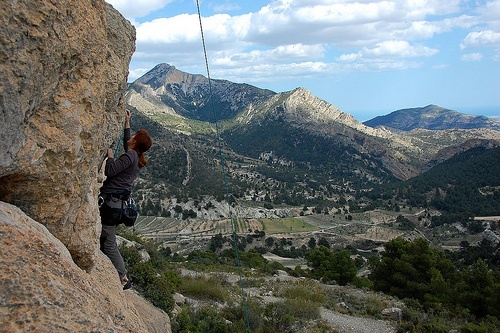head: (127, 130, 153, 153)
person: (96, 110, 150, 294)
